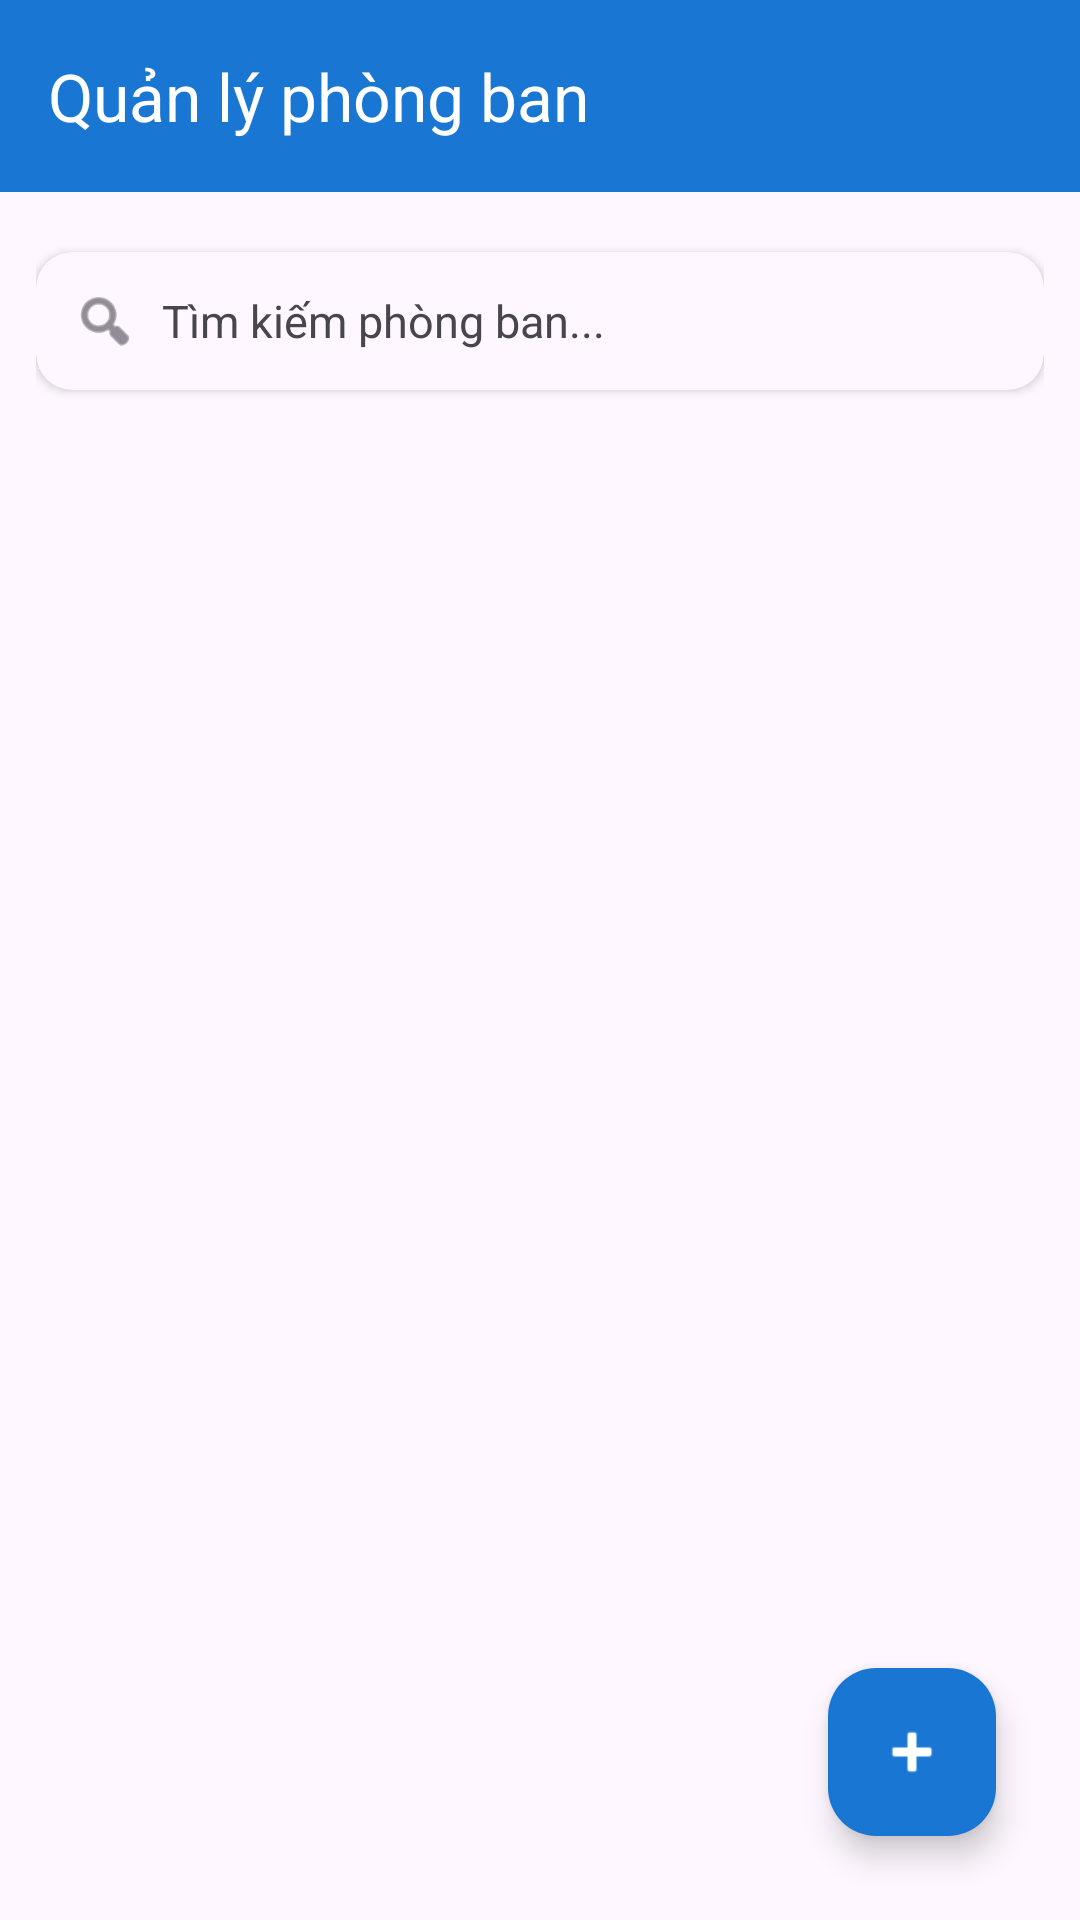

Named icons in this screenshot (1080x1920) and their centers, [x,y]:
add: [912,1752]
search: [105,321]
